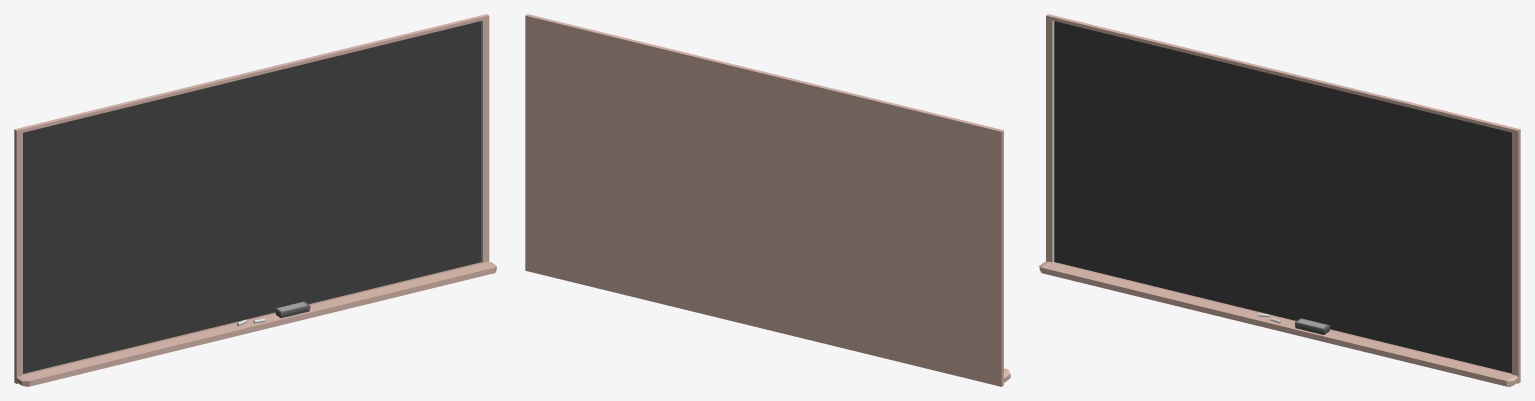
The model's file is Astronomychalkboard.fbx.
3 renders of one model, left to right at view 1: azimuth 30°, elevation 25°; view 2: azimuth 150°, elevation 25°; view 3: azimuth 330°, elevation 25°, orthographic.
Visible parts, largest first — view 1: pCube4, pCube2; view 2: pCube4; view 3: pCube4, pCube2.
Boxes of the visible parts, <box> form: pCube4: <box>14,14,489,383</box>; pCube2: <box>16,261,496,386</box>; pCube4: <box>525,14,1003,386</box>; pCube4: <box>1046,14,1520,383</box>; pCube2: <box>1039,261,1518,386</box>.
Bounding box in the file's own units: 2.02 × 1.03 × 0.0808.
